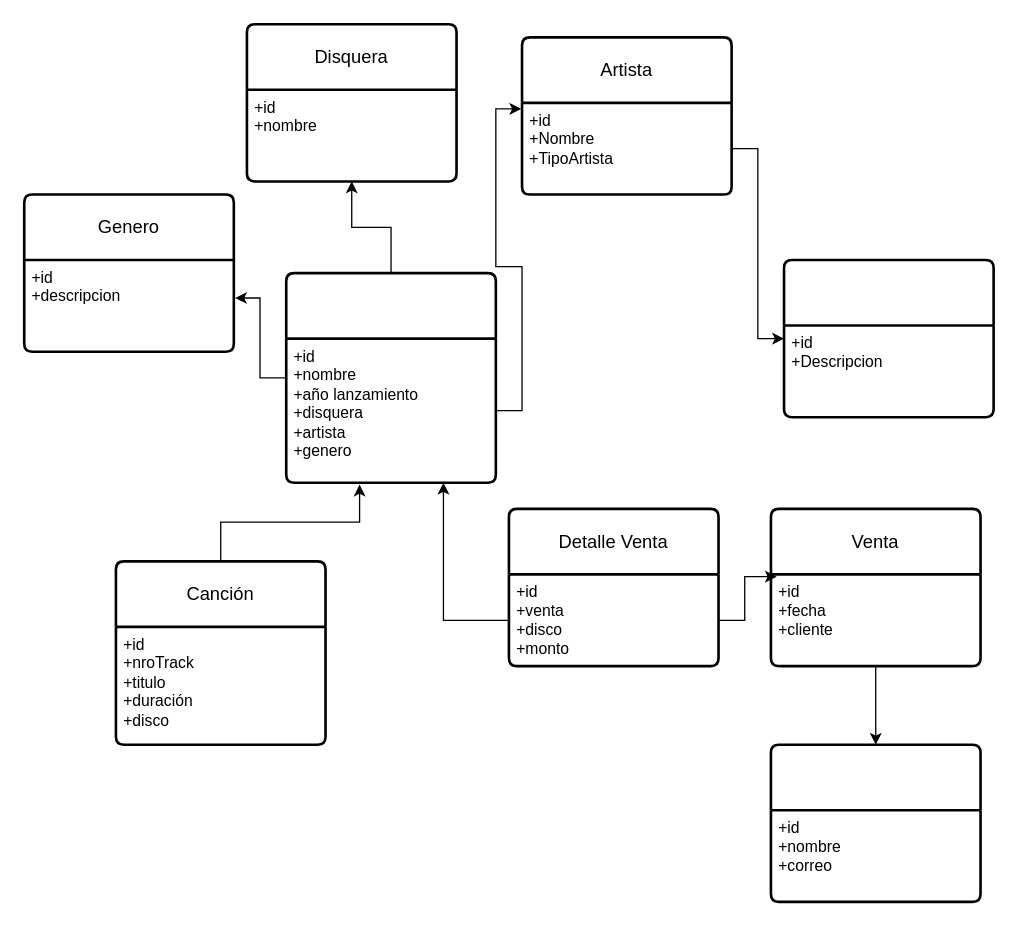
The diagram is 1017 pixels wide and 925 high, and some of its shapes have lost their labels. Here are the shapes that lost their labels. From the top down, the box of each, then its label:
(782, 258, 994, 418): Tipo Artista
(284, 271, 496, 483): Disco
(769, 743, 981, 903): Cliente
